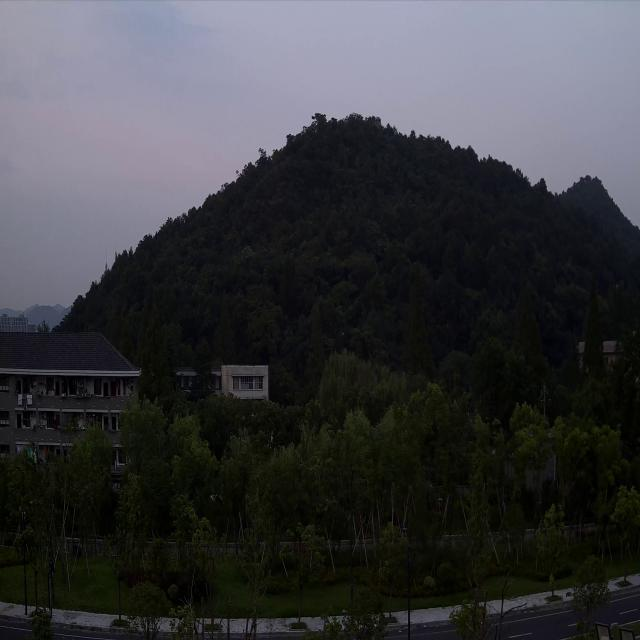drone: (339, 331, 346, 337)
